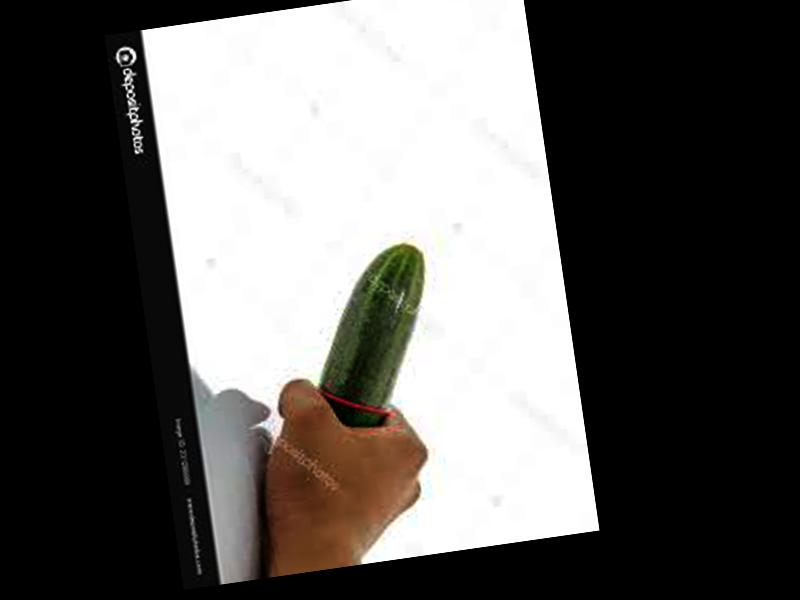Cucumber: (302, 241, 445, 433)
